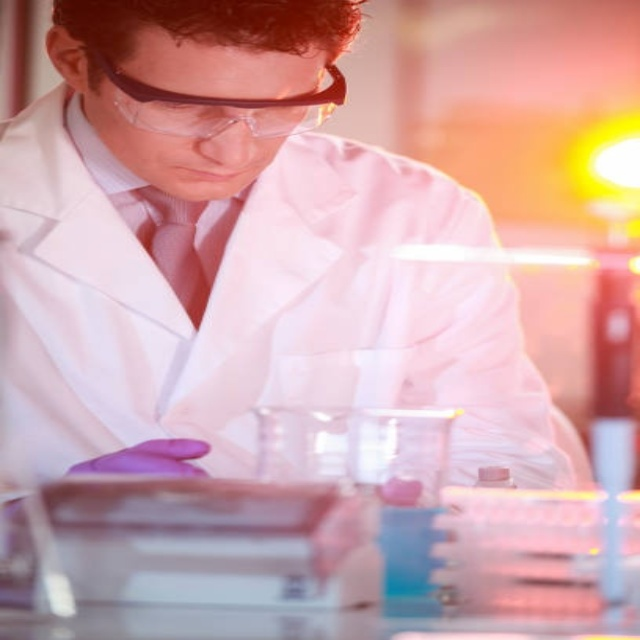Gafas: (91, 51, 342, 141)
Guantes: (65, 437, 215, 478)
Sin_mascara: (162, 158, 259, 199)
